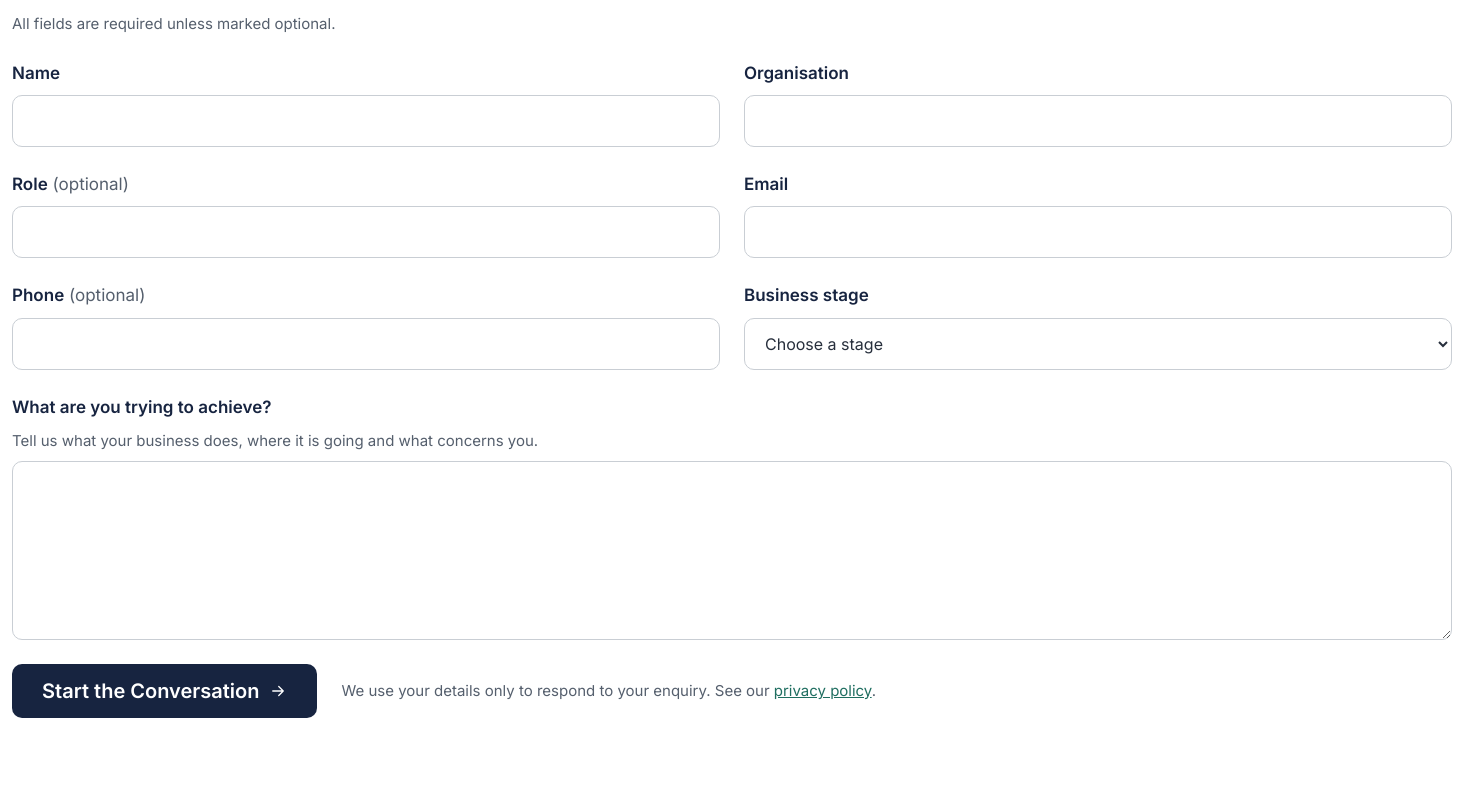
ContactForm › shows a focused error summary linked to invalid fields
What coordinates should you click on to do the following:
click the button "Start the Conversation"
I would click on:
 (165, 691)
Its box is [12,664,317,718].
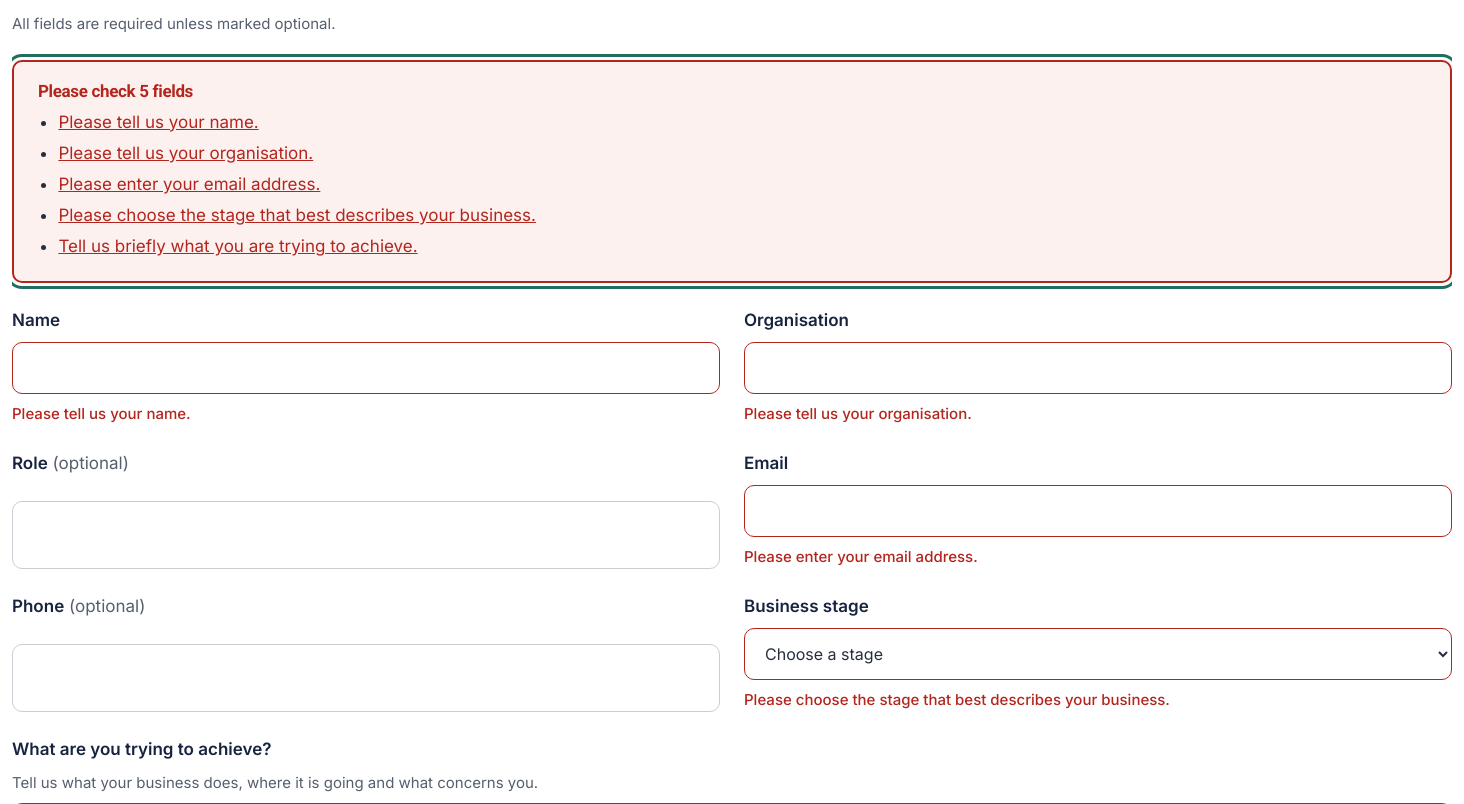
Result: the message shows "Please check 5 fields" at [12,60,1452,283]
